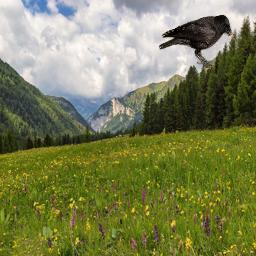Crow: (159, 14, 233, 68)
